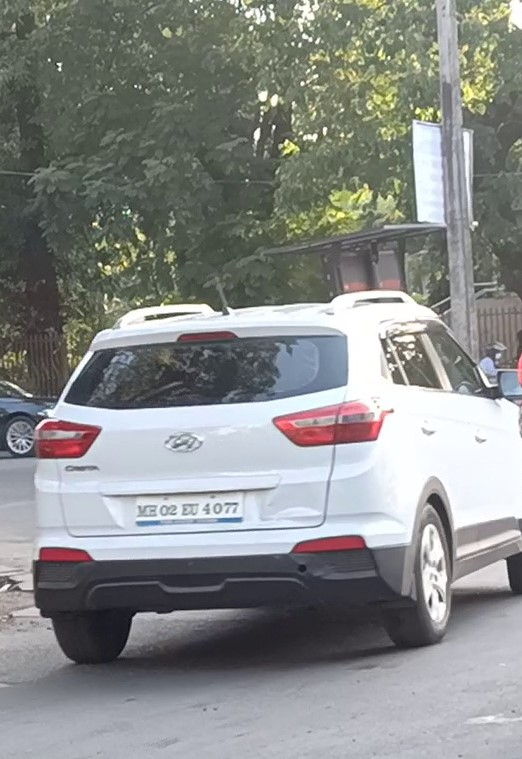MH02EU4077: (133, 491, 244, 520)
